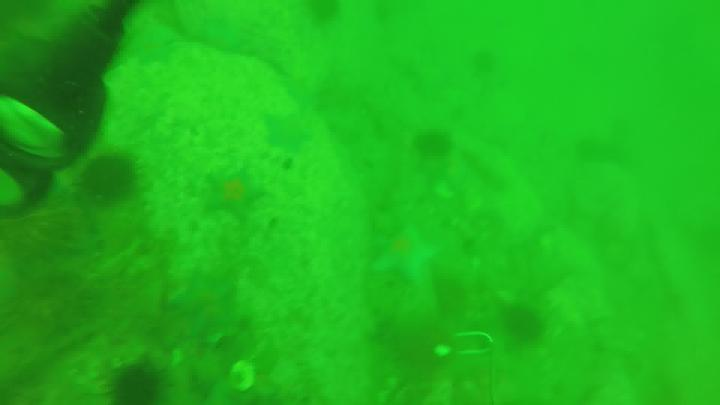echinus: (80, 155, 141, 207), (112, 360, 165, 405), (505, 301, 545, 345), (417, 132, 450, 155)
scallop: (229, 361, 258, 392)
starfish: (373, 228, 444, 297), (168, 283, 233, 339), (201, 168, 267, 222)
